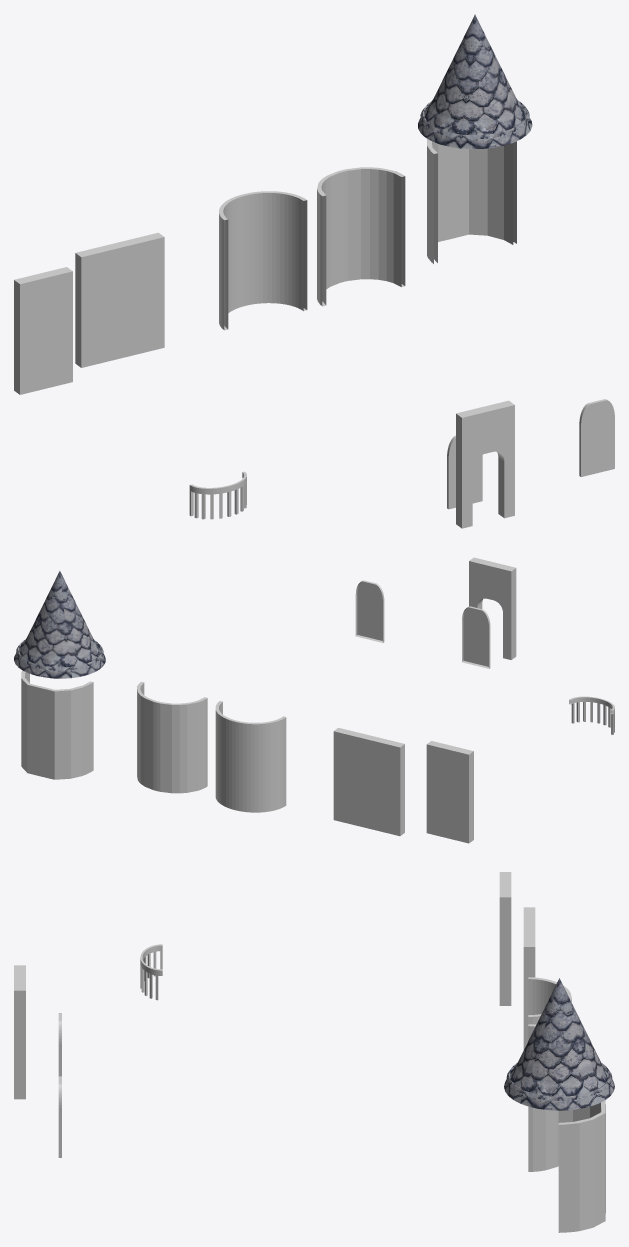
The model's file is Modular Parts 03.fbx.
3 views of the same model, one above another, from view 1: azimuth 30°, elevation 25°; view 2: azimuth 150°, elevation 25°; view 3: azimuth 270°, elevation 25° (orthographic). The views are drawn at different scales.
Parts seen in each view (by area): view 1: Cube.071, Arch Window Frame Base 02.006, Arch Window Frame Base 02.005, Arch Window Frame Base 02.007, Cone, Cube.051, Doorway Wall 01.003, Cube.056, Arch Window Frame Base 02.004, Cube.054, Cone.002; view 2: Cube.071, Arch Window Frame Base 02.007, Arch Window Frame Base 02.005, Arch Window Frame Base 02.006, Cone, Cube.051, Doorway Wall 01.003, Cube.056, Cube.054, Arch Window Frame Base 02.004, Cone.002; view 3: Cone, Arch Window Frame Base 02.007, Arch Window Frame Base 02.006, Cube.051, Doorway Wall 01.003, Cube.071, Arch Window Frame Base 02.005, Arch Window Frame Base 02.004, Cone.002.
Part boxes in pixels (x1,y1,x2,y2): Cube.071: (75,232,164,367); Arch Window Frame Base 02.006: (317,167,405,306); Arch Window Frame Base 02.005: (219,191,307,330); Arch Window Frame Base 02.007: (427,138,516,263); Cone: (418,14,532,149); Cube.051: (14,267,72,394); Doorway Wall 01.003: (456,400,514,528); Cube.056: (579,399,614,476); Arch Window Frame Base 02.004: (189,471,246,519); Cube.054: (447,435,482,509); Cone.002: (420,101,529,139); Cube.071: (333,727,404,836); Arch Window Frame Base 02.007: (21,670,93,779); Arch Window Frame Base 02.005: (215,701,286,812); Arch Window Frame Base 02.006: (137,681,207,793); Cone: (14,571,105,678); Cube.051: (426,741,473,843); Doorway Wall 01.003: (469,557,516,659); Cube.056: (355,580,384,642); Cube.054: (462,606,490,668); Arch Window Frame Base 02.004: (569,696,614,734); Cone.002: (16,640,103,670); Cone: (504,978,614,1110); Arch Window Frame Base 02.007: (558,1100,605,1232); Arch Window Frame Base 02.006: (528,1024,558,1171); Cube.051: (499,872,511,1005); Doorway Wall 01.003: (14,965,25,1099); Cube.071: (523,907,535,1049); Arch Window Frame Base 02.005: (528,977,571,1024); Arch Window Frame Base 02.004: (140,944,162,1000); Cone.002: (506,1063,612,1100).
Size of the model in its own units: 2032 by 866 by 2005.
1 material, 1 textured.
